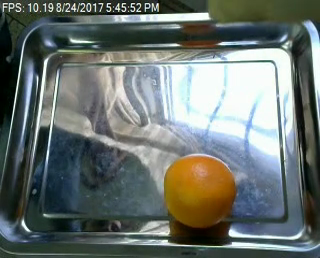Orange: (165, 153, 236, 227)
